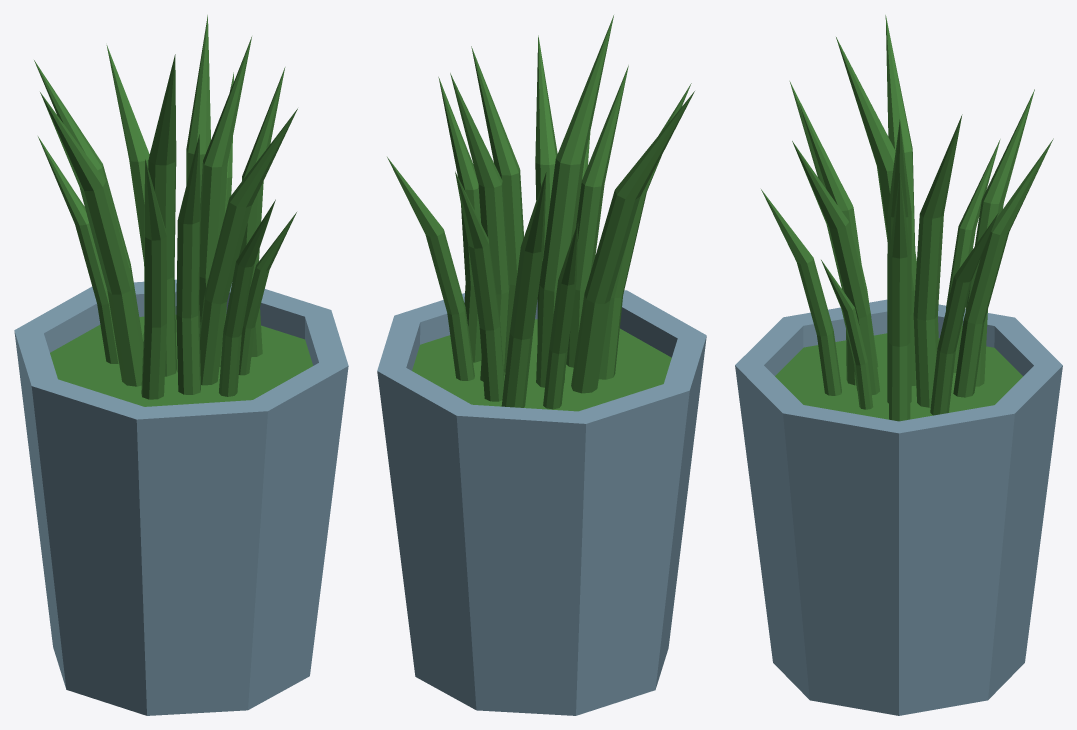
File: Yogaroom_flower4.fbx
3 renders of one model, left to right at view 1: azimuth 30°, elevation 25°; view 2: azimuth 150°, elevation 25°; view 3: azimuth 270°, elevation 25°, orthographic. The views are drawn at different scales.
Parts seen in each view (by area): view 1: Yogaroom_flower4; view 2: Yogaroom_flower4; view 3: Yogaroom_flower4.
Boxes of the visible parts, box(x1,y1,x2,y2) form: Yogaroom_flower4: box(14, 15, 348, 715); Yogaroom_flower4: box(377, 15, 706, 715); Yogaroom_flower4: box(735, 15, 1062, 715).
Size of the model in its own units: 22.5 by 46.1 by 22.5.
